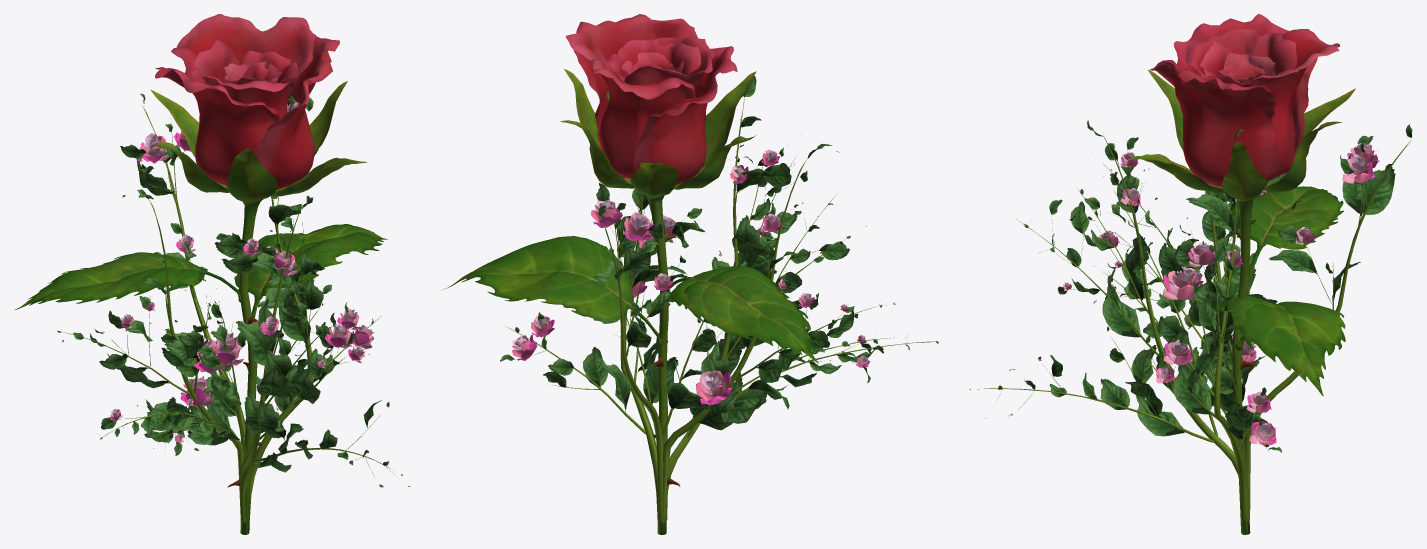
The model's file is rose.glb.
3 views of the same model, side by side, from view 1: azimuth 30°, elevation 25°; view 2: azimuth 150°, elevation 25°; view 3: azimuth 270°, elevation 25° (orthographic). The views are drawn at different scales.
Parts seen in each view (by area): view 1: rosehero_lod0, rosebush_leaf_lod0, rosebush_stem_lod0, rosebush_bloom_lod0; view 2: rosehero_lod0, rosebush_leaf_lod0, rosebush_stem_lod0, rosebush_bloom_lod0; view 3: rosehero_lod0, rosebush_leaf_lod0, rosebush_stem_lod0, rosebush_bloom_lod0.
Boxes of the visible parts, bbox=[...] form: rosehero_lod0: bbox=[15, 14, 387, 534]; rosebush_leaf_lod0: bbox=[57, 84, 410, 487]; rosebush_stem_lod0: bbox=[58, 107, 392, 523]; rosebush_bloom_lod0: bbox=[62, 101, 389, 485]; rosehero_lod0: bbox=[443, 14, 818, 534]; rosebush_leaf_lod0: bbox=[500, 76, 938, 430]; rosebush_stem_lod0: bbox=[505, 94, 936, 522]; rosebush_bloom_lod0: bbox=[512, 149, 895, 404]; rosehero_lod0: bbox=[1128, 14, 1355, 534]; rosebush_leaf_lod0: bbox=[969, 120, 1412, 452]; rosebush_stem_lod0: bbox=[977, 137, 1411, 521]; rosebush_bloom_lod0: bbox=[1010, 143, 1379, 445].
Size of what is drawn, in the model's own units: 0.662 by 0.78 by 0.6325.
Materials: 4 (4 with a texture image).
